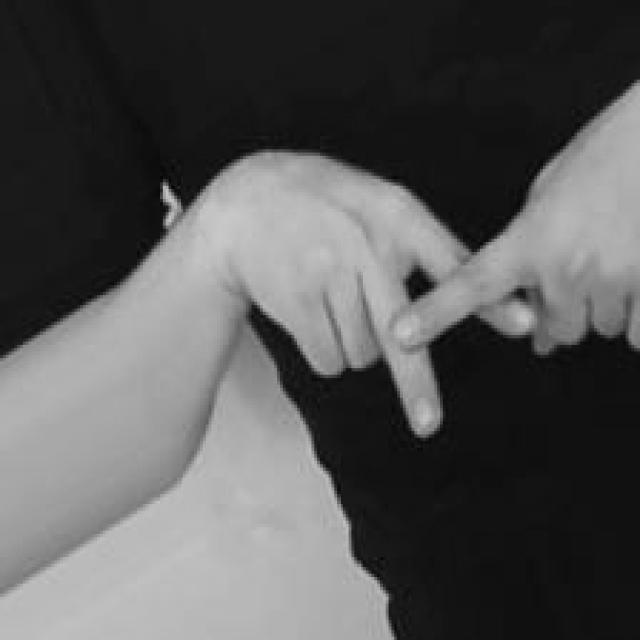A: (243, 130, 640, 442)
